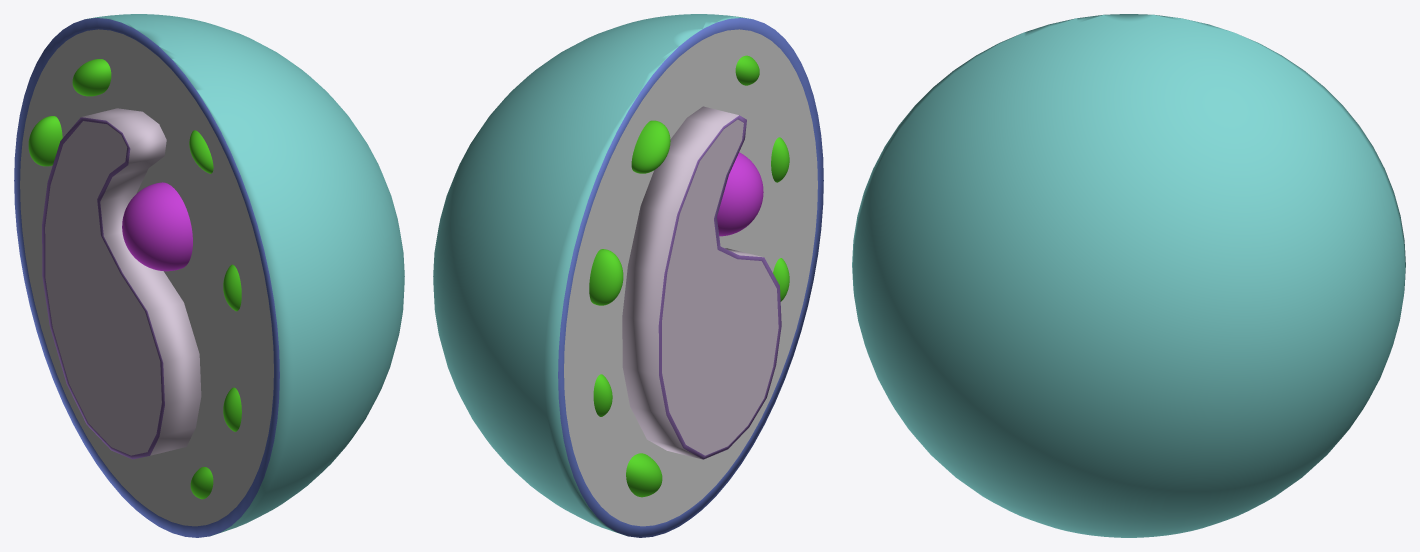
The model's file is kletka2.fbx.
The picture shows the model from 3 angles, left to right: view 1: azimuth 30°, elevation 25°; view 2: azimuth 150°, elevation 25°; view 3: azimuth 270°, elevation 25°; orthographic projection. The views are drawn at different scales.
Visible parts, largest first — view 1: Sphere, Cube.001, Sphere.001, Sphere.002, Sphere.003, Sphere.005, Sphere.004, Sphere.006, Sphere.007; view 2: Sphere, Cube.001, Sphere.001, Sphere.002, Sphere.003, Sphere.009, Sphere.005, Sphere.008, Sphere.004; view 3: Sphere.
Part boxes in pixels (bbox=[...]): Sphere: bbox=[14, 14, 404, 537]; Cube.001: bbox=[42, 108, 201, 459]; Sphere.001: bbox=[122, 182, 192, 271]; Sphere.002: bbox=[28, 116, 62, 166]; Sphere.003: bbox=[72, 59, 111, 96]; Sphere.005: bbox=[223, 264, 241, 311]; Sphere.004: bbox=[189, 130, 213, 173]; Sphere.006: bbox=[223, 387, 241, 431]; Sphere.007: bbox=[190, 467, 213, 499]; Sphere: bbox=[433, 14, 823, 537]; Cube.001: bbox=[622, 106, 781, 459]; Sphere.001: bbox=[717, 152, 763, 236]; Sphere.002: bbox=[589, 249, 623, 305]; Sphere.003: bbox=[631, 120, 670, 173]; Sphere.009: bbox=[626, 453, 662, 497]; Sphere.005: bbox=[771, 137, 789, 182]; Sphere.008: bbox=[593, 374, 612, 416]; Sphere.004: bbox=[735, 55, 759, 85]; Sphere: bbox=[852, 14, 1405, 537].
Bounding box in the file's own units: 115 × 200 × 200.
